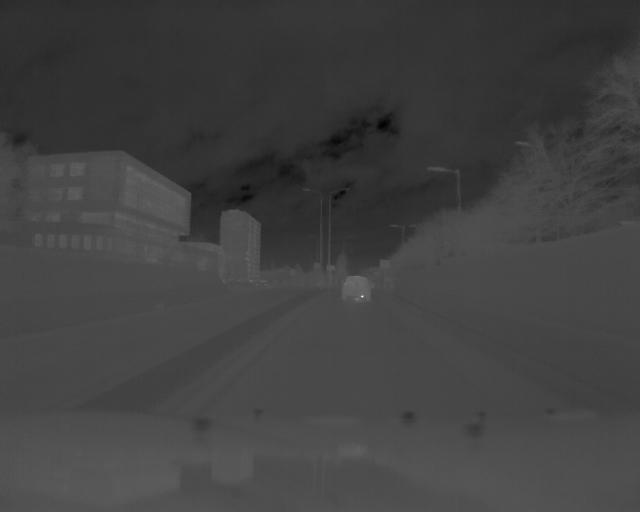car: (341, 273, 371, 302)
